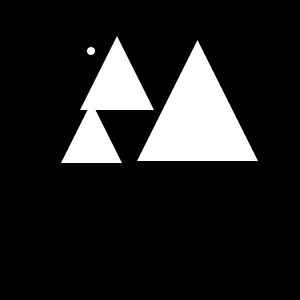rectangle: (87, 47, 95, 55)
triangle: (137, 40, 258, 161), (80, 36, 154, 110), (61, 102, 122, 163)
